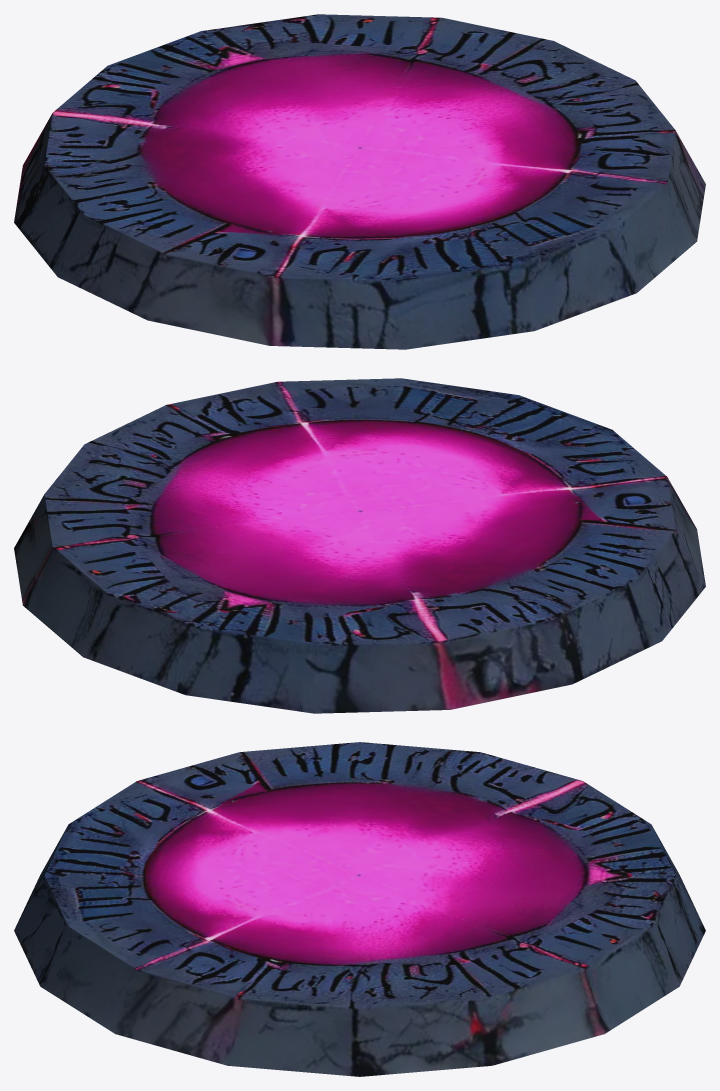
The model's file is approach-stone-4-generated-2026-05-14T23-54-49-347Z.medium.glb.
3 renders of one model, top to bottom at view 1: azimuth 30°, elevation 25°; view 2: azimuth 150°, elevation 25°; view 3: azimuth 270°, elevation 25°, orthographic.
Parts seen in each view (by area): view 1: GLTF; view 2: GLTF; view 3: GLTF.
Boxes of the visible parts, box(x1,y1,x2,y2) form: GLTF: box(14, 14, 705, 349); GLTF: box(14, 378, 705, 713); GLTF: box(14, 742, 705, 1076).
Size of the model in its own units: 18.73 by 1.65 by 18.73.
Materials: 1 (1 with a texture image).
